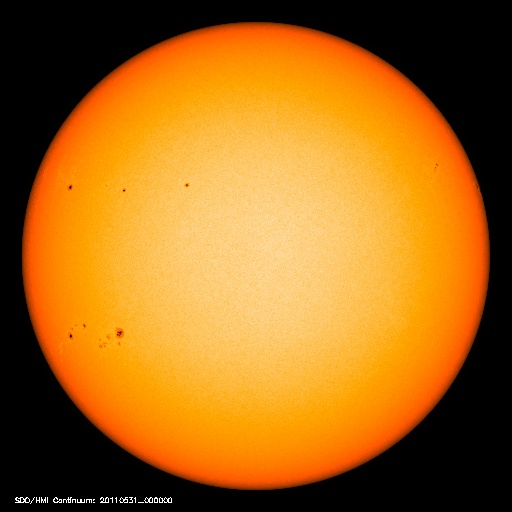sunspot: (61, 314, 127, 355), (58, 173, 131, 202), (421, 152, 450, 178), (174, 175, 201, 195)
